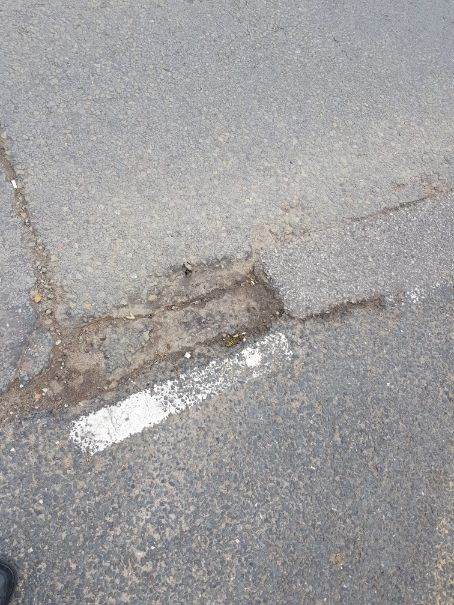pothole: (1, 246, 293, 427)
